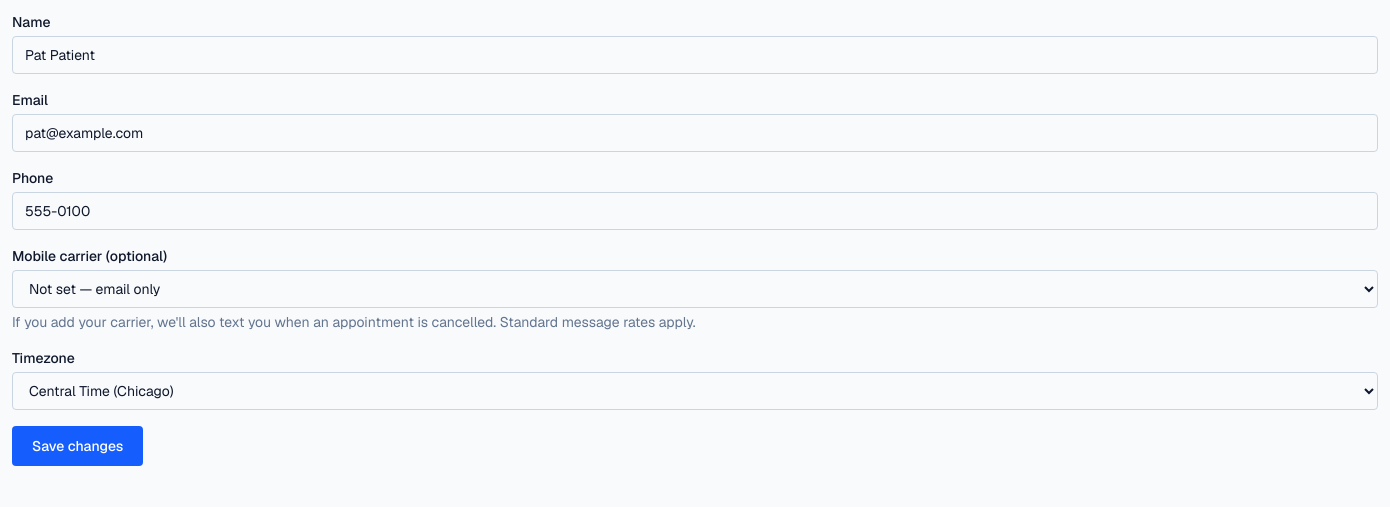
Test: ProfileForm › shows an inline, per-field error from a 400 response and focuses that field
Expected: the field labelled "Name" is shown, [12,36,1378,74]
Click the button "Save changes". click: (78, 446)
box: [12,426,143,466]
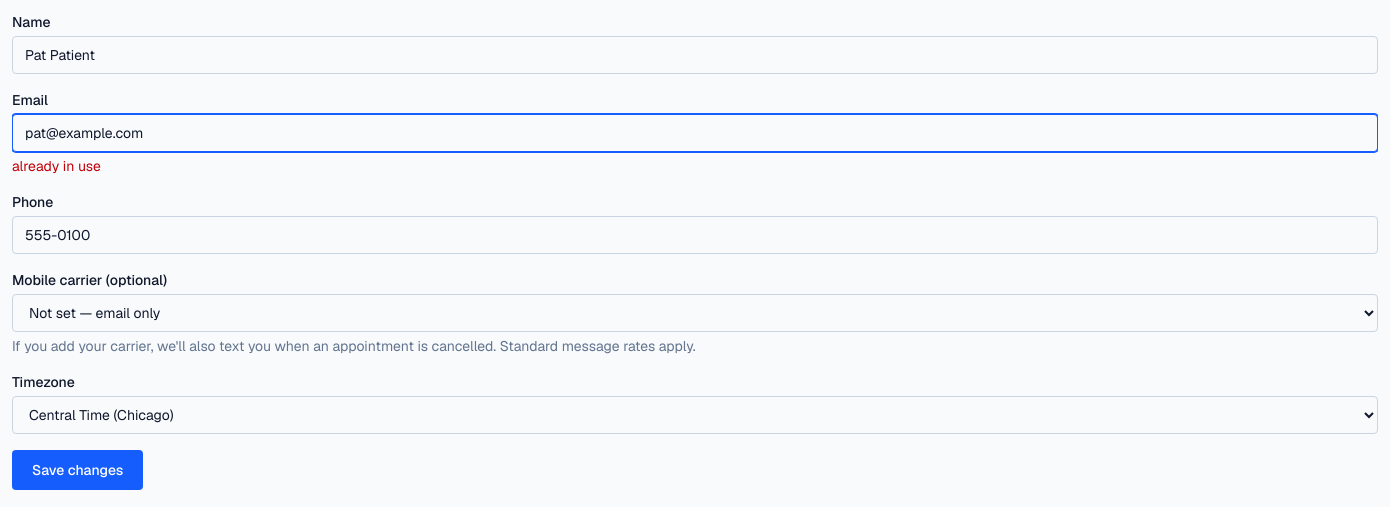
Result: the text "already in use" is shown at [12,157,101,175]
